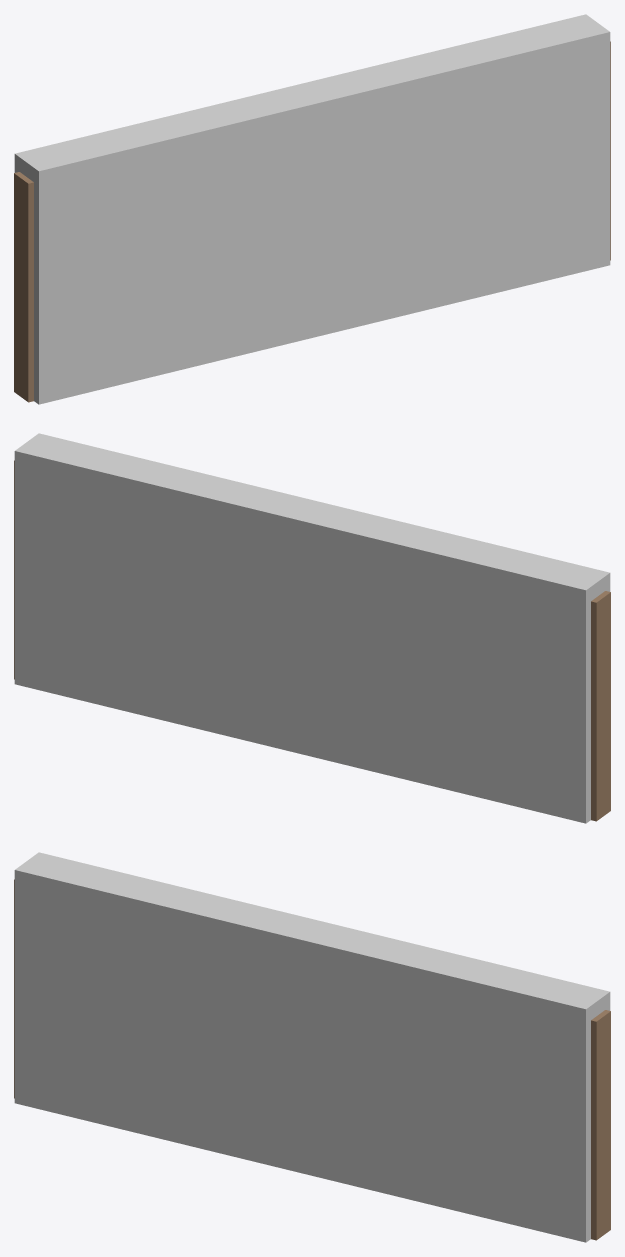
The model's file is Fence_Segment.fbx.
The picture shows the model from 3 angles, top to bottom: view 1: azimuth 30°, elevation 25°; view 2: azimuth 150°, elevation 25°; view 3: azimuth 330°, elevation 25°; orthographic projection.
Parts seen in each view (by area): view 1: COL_Fence, Fence_Segment_Mesh; view 2: COL_Fence, Fence_Segment_Mesh; view 3: COL_Fence, Fence_Segment_Mesh.
Part boxes in pixels (box(x1,y1,x2,y2)): COL_Fence: box(14, 14, 610, 404); Fence_Segment_Mesh: box(14, 41, 610, 402); COL_Fence: box(14, 433, 610, 823); Fence_Segment_Mesh: box(14, 460, 610, 821); COL_Fence: box(14, 852, 610, 1242); Fence_Segment_Mesh: box(14, 879, 610, 1240).
Bounding box in the file's own units: 4.18 × 1.6 × 0.3.
